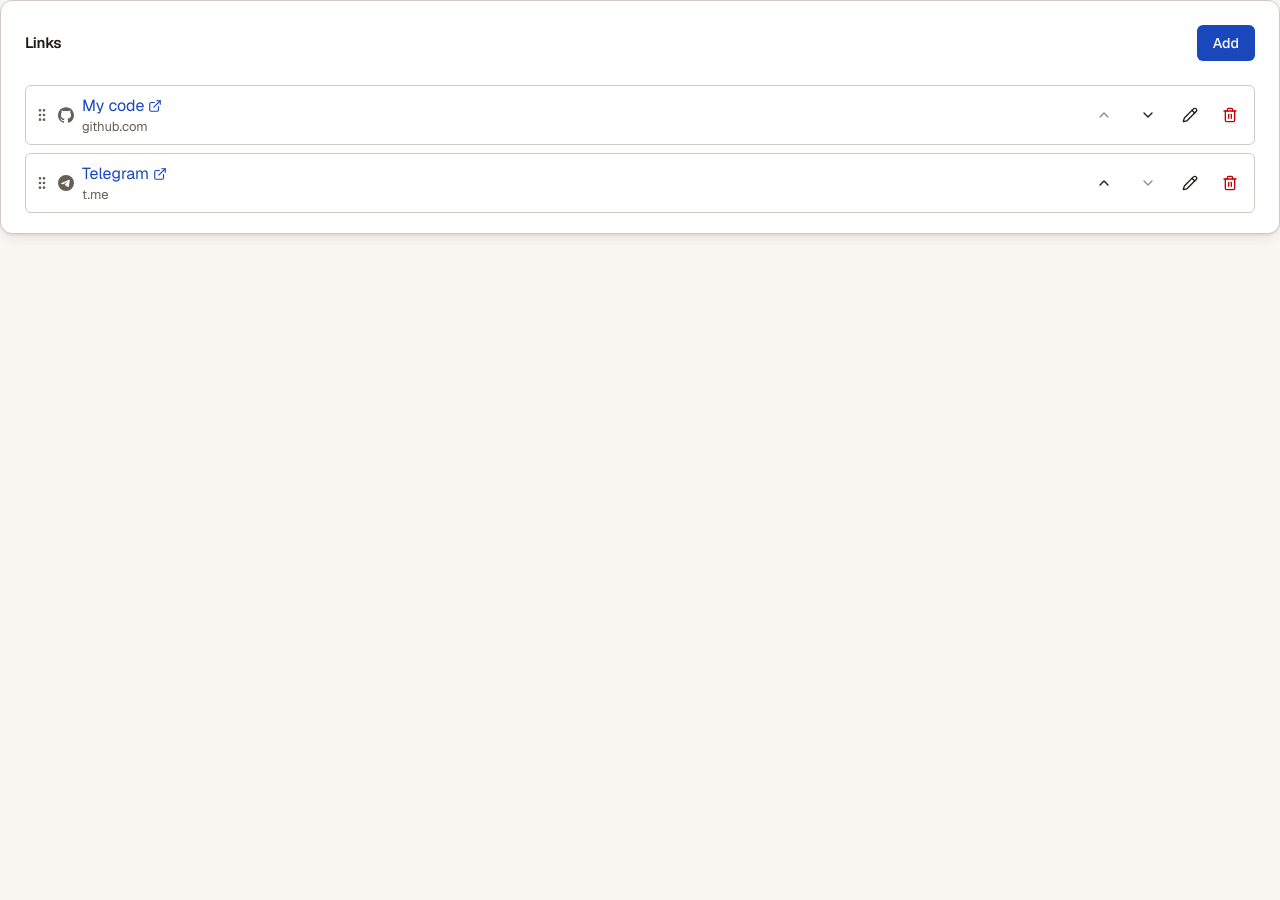
the links card holds one editor at a time › switches between two links without ever showing two forms
Click the button named "Edit My code".
click(1190, 115)  # box [1174,99,1206,131]
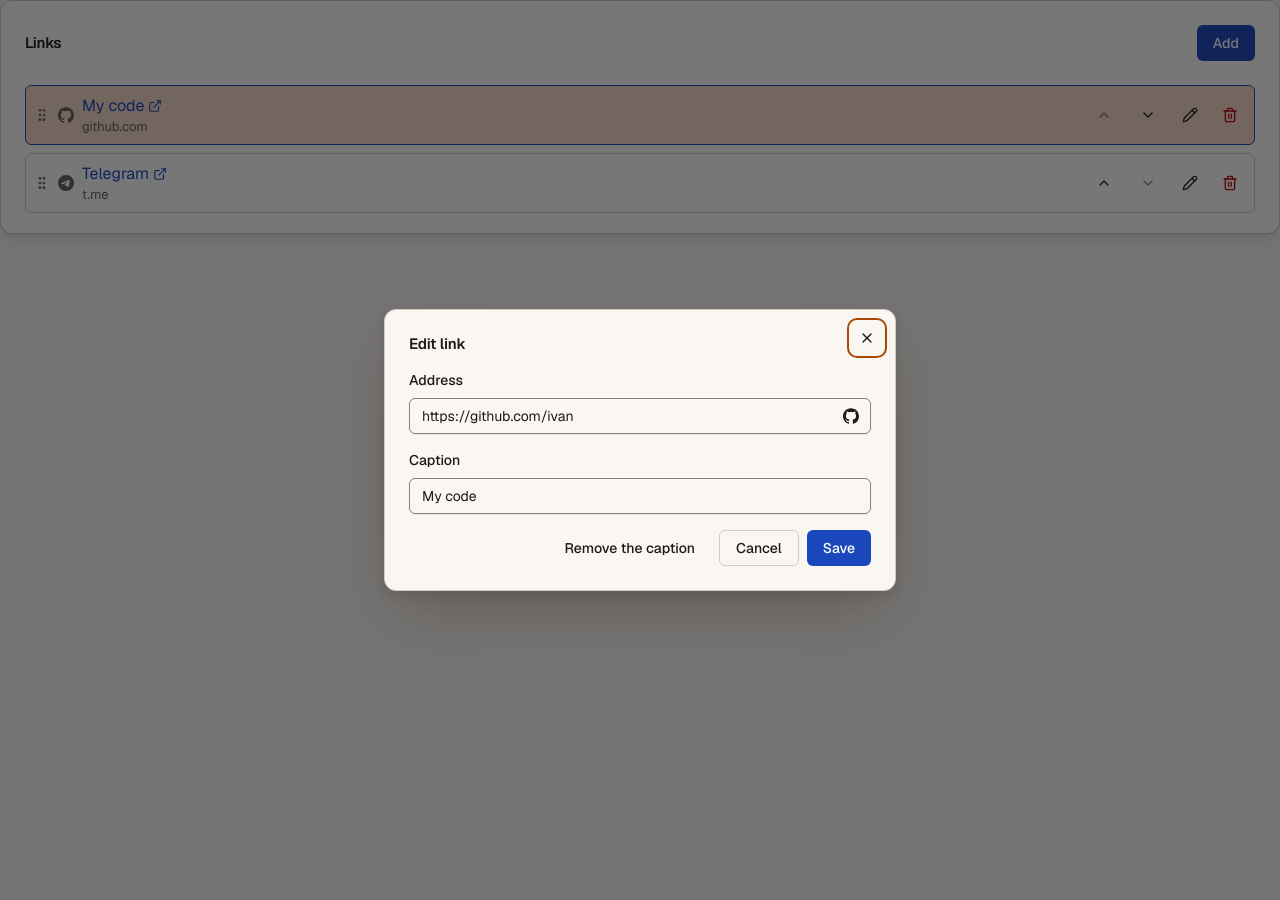
Click the button "Cancel".
click(759, 548)  # box [719,530,799,566]
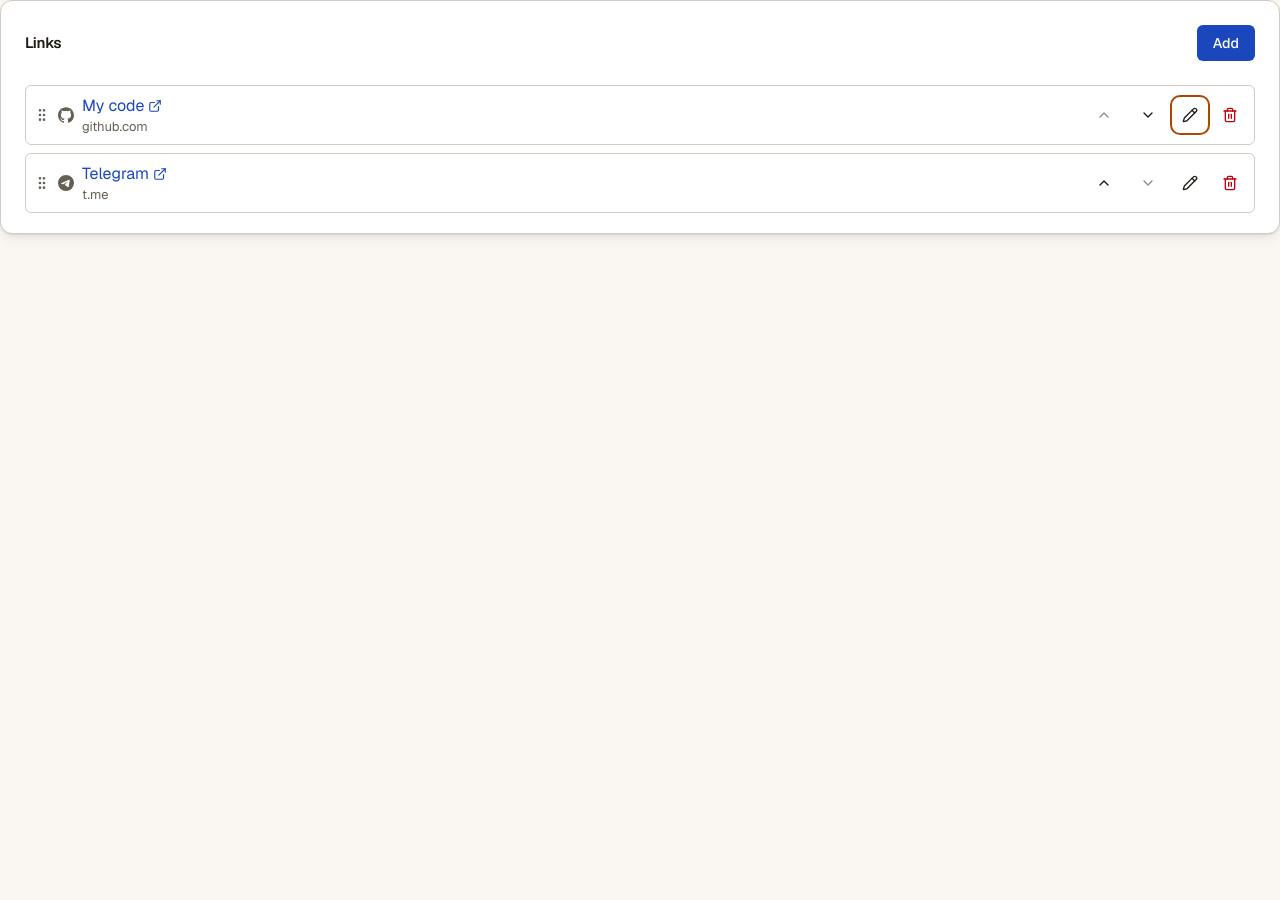
Result: no labels labelled "Address" are shown
Click the button named "Edit Telegram".
click(1190, 183)  # box [1174,167,1206,199]
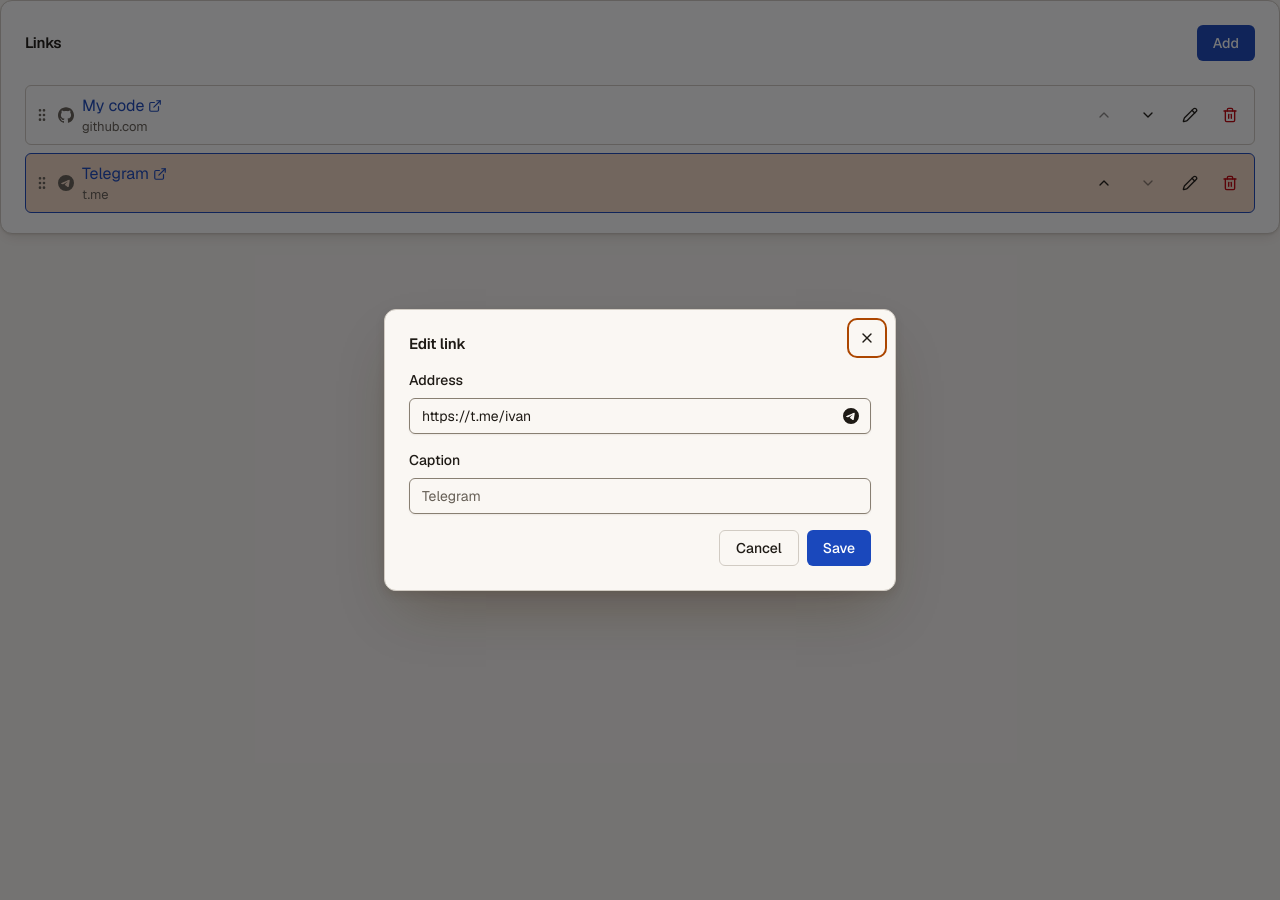
Result: the number of fields labelled "Address" is 1 at [409,398,871,434]
Result: the field labelled "Address" holds "https://t.me/ivan" at [409,398,871,434]
